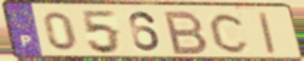0: (42, 10, 81, 53)
5: (78, 9, 124, 55)
6: (127, 10, 163, 55)
B: (163, 9, 211, 56)
C: (208, 11, 252, 55)
I: (257, 11, 278, 57)
